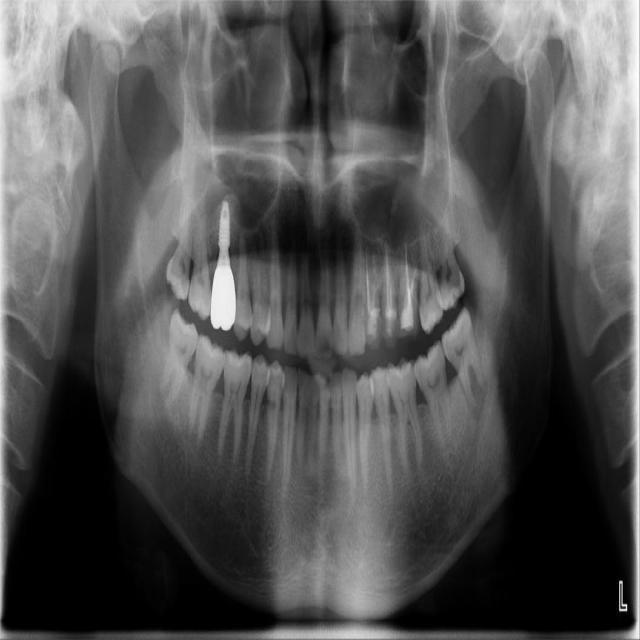Caries: (435, 263, 443, 292)
Crown: (210, 266, 236, 331)
Implant: (218, 201, 230, 247)
Periapical lesion: (194, 435, 206, 456), (480, 376, 490, 393), (471, 388, 479, 408)
Root Canal Treatment: (404, 241, 411, 304), (385, 241, 390, 312), (366, 247, 371, 314), (371, 252, 376, 312), (410, 267, 416, 296)
impacted tooth: (158, 312, 198, 408), (166, 197, 193, 300)
